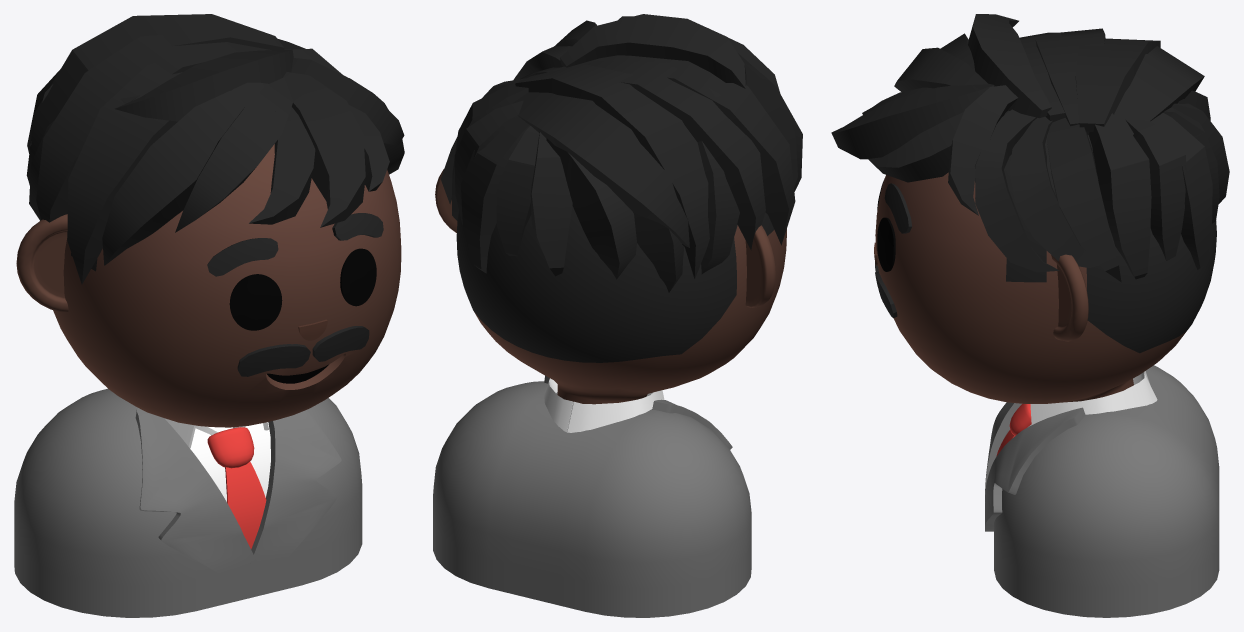
The model's file is man_office_worker.glb.
3 renders of one model, left to right at view 1: azimuth 30°, elevation 25°; view 2: azimuth 150°, elevation 25°; view 3: azimuth 270°, elevation 25°, orthographic. The views are drawn at different scales.
Parts seen in each view (by area): view 1: Cube.1363, Roundcube.109, Sphere.071, Circle.662, Circle.658, Cylinder.095, Circle.663, Circle.661, Circle.664, Cube.1371, Plane.054; view 2: Cube.1363, Sphere.071, Roundcube.109, Plane.054, Cylinder.095, Circle.662; view 3: Cube.1363, Roundcube.109, Sphere.071, Circle.662, Cylinder.095, Plane.054, Circle.658, Circle.661.
Part boxes in pixels (box(x1,y1,x2,y2)): Cube.1363: box(26, 14, 404, 284); Roundcube.109: box(53, 144, 401, 427); Sphere.071: box(14, 388, 362, 617); Circle.662: box(135, 408, 341, 581); Circle.658: box(229, 248, 376, 330); Cylinder.095: box(16, 214, 68, 312); Circle.663: box(237, 326, 369, 376); Circle.661: box(207, 213, 383, 276); Circle.664: box(225, 461, 266, 549); Cube.1371: box(207, 427, 254, 468); Plane.054: box(165, 418, 268, 448); Cube.1363: box(440, 14, 802, 292); Sphere.071: box(433, 381, 751, 617); Roundcube.109: box(456, 206, 786, 404); Plane.054: box(544, 378, 664, 432); Cylinder.095: box(435, 169, 775, 307); Circle.662: box(544, 375, 732, 449); Cube.1363: box(831, 14, 1229, 282); Roundcube.109: box(875, 110, 1216, 403); Sphere.071: box(994, 365, 1219, 617); Circle.662: box(985, 402, 1085, 531); Cylinder.095: box(1051, 254, 1088, 341); Plane.054: box(1030, 371, 1157, 424); Circle.658: box(877, 178, 895, 271); Circle.661: box(884, 183, 912, 233).
Size of the model in its own units: 1.76 by 2.48 by 1.77.
2 materials, 2 textured.
